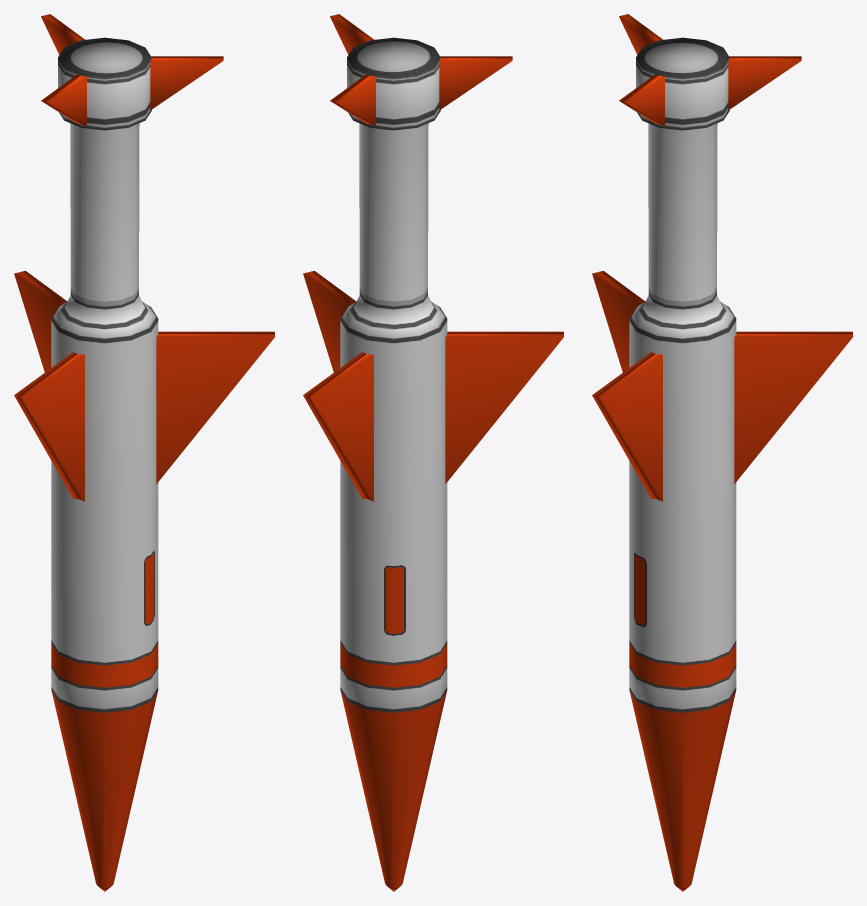
Rendered from bomb.gltf.
3 renders of one model, left to right at view 1: azimuth 30°, elevation 25°; view 2: azimuth 150°, elevation 25°; view 3: azimuth 270°, elevation 25°, orthographic.
Parts seen in each view (by area): view 1: bomb; view 2: bomb; view 3: bomb.
Boxes of the visible parts, bbox=[...] form: bomb: bbox=[14, 14, 274, 891]; bomb: bbox=[303, 14, 563, 891]; bomb: bbox=[592, 14, 852, 891].
Bounding box in the file's own units: 0.3889 × 1.19 × 0.3368.
Materials: 1 (1 with a texture image).
